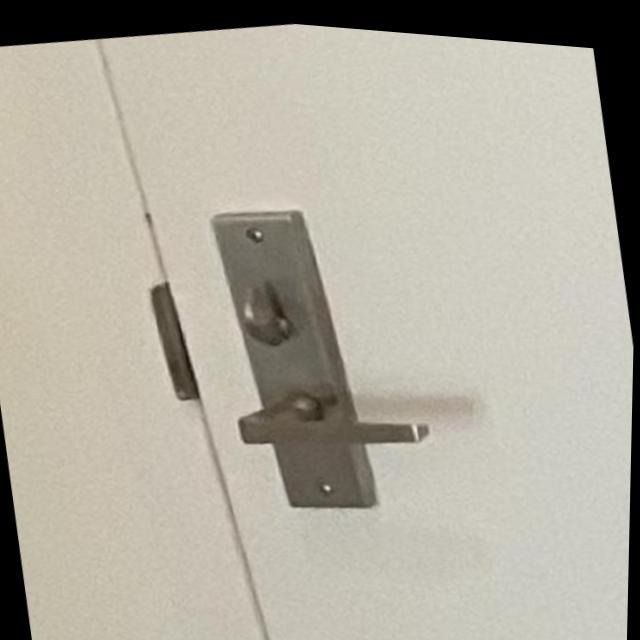door_handle: (209, 352, 456, 496)
